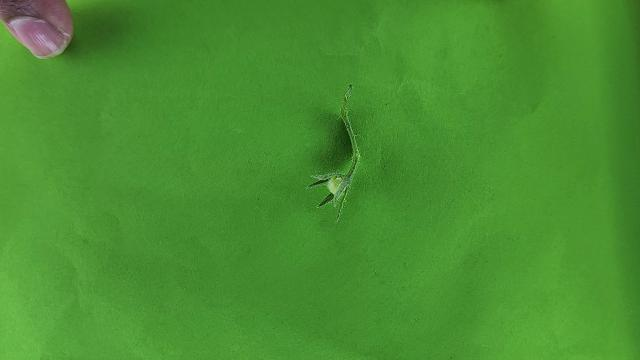Fruit Bud: (307, 167, 355, 219)
